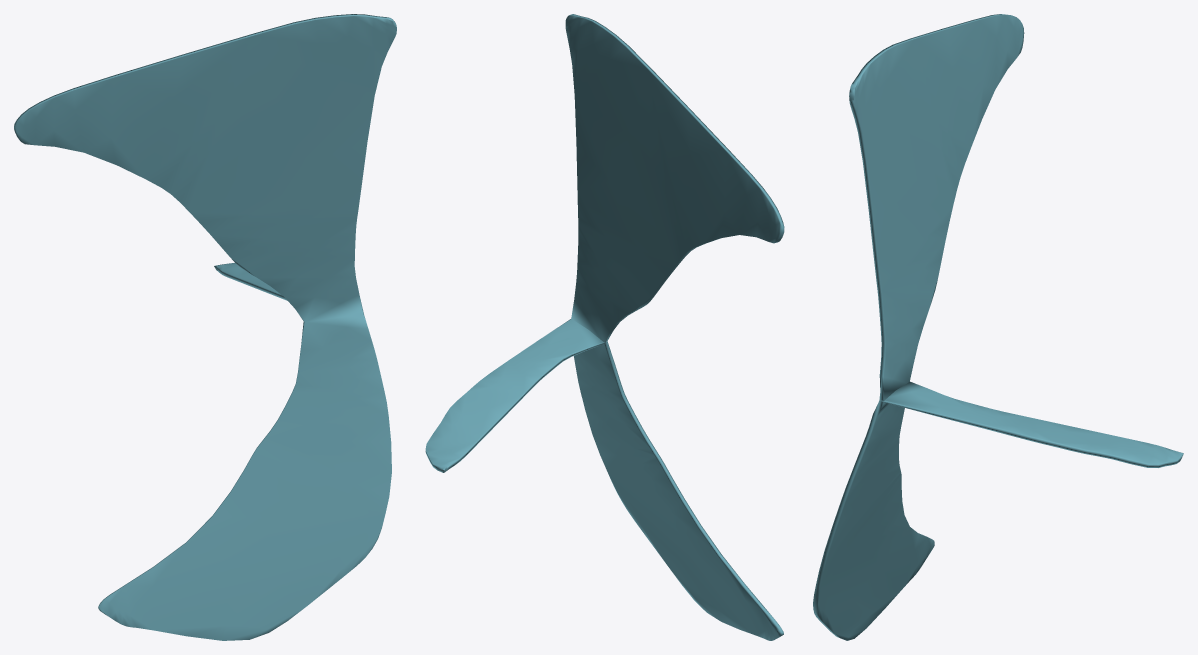
3 renders of one model, left to right at view 1: azimuth 30°, elevation 25°; view 2: azimuth 150°, elevation 25°; view 3: azimuth 270°, elevation 25°, orthographic. The views are drawn at different scales.
Parts seen in each view (by area): view 1: 右侧三放射软骨; view 2: 右侧三放射软骨; view 3: 右侧三放射软骨.
Boxes of the visible parts, bbox=[...] form: 右侧三放射软骨: bbox=[14, 14, 396, 640]; 右侧三放射软骨: bbox=[425, 14, 784, 640]; 右侧三放射软骨: bbox=[813, 14, 1183, 640].
Bounding box in the file's own units: 0.0557 × 0.0999 × 0.053.
